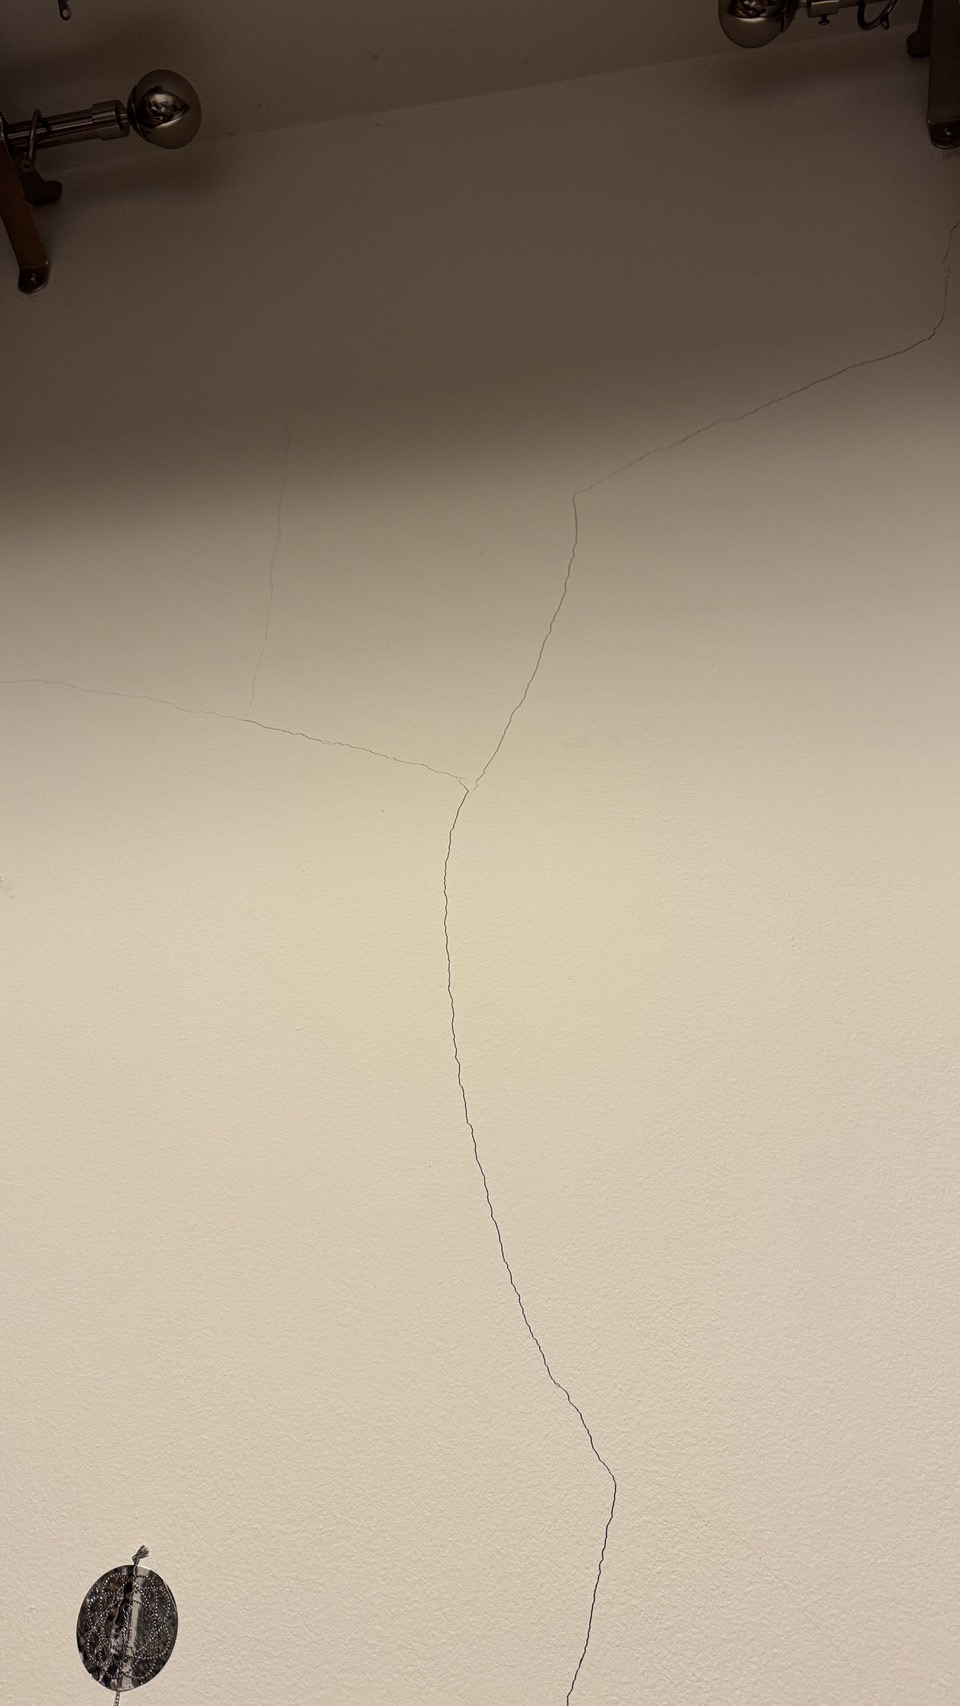Low: (1, 485, 960, 1702)
